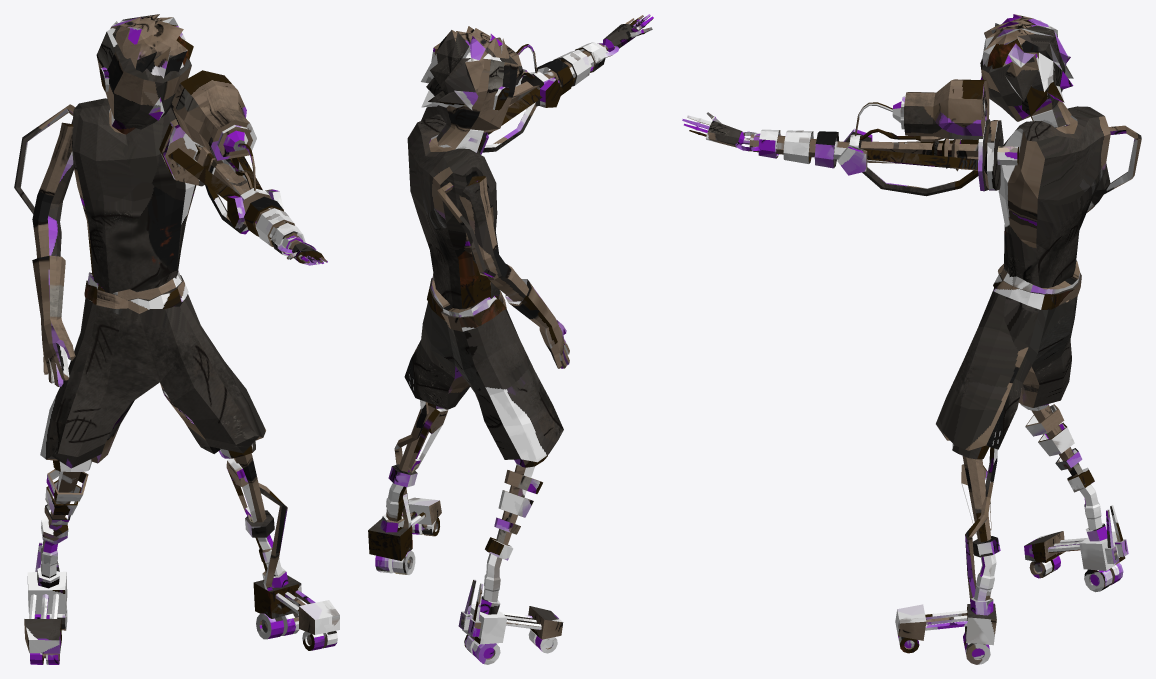
File: CyborgFINALAnimation_000129.obj
3 renders of one model, left to right at view 1: azimuth 30°, elevation 25°; view 2: azimuth 150°, elevation 25°; view 3: azimuth 270°, elevation 25°, orthographic. The views are drawn at different scales.
Visible parts, largest first — view 1: CyborgMesh_Cube.002; view 2: CyborgMesh_Cube.002; view 3: CyborgMesh_Cube.002.
Part boxes in pixels (x1,y1,x2,y2): CyborgMesh_Cube.002: (14,14,339,664); CyborgMesh_Cube.002: (368,14,653,664); CyborgMesh_Cube.002: (682,14,1141,664).
Bounding box in the file's own units: 3.73 × 9.44 × 6.62.
